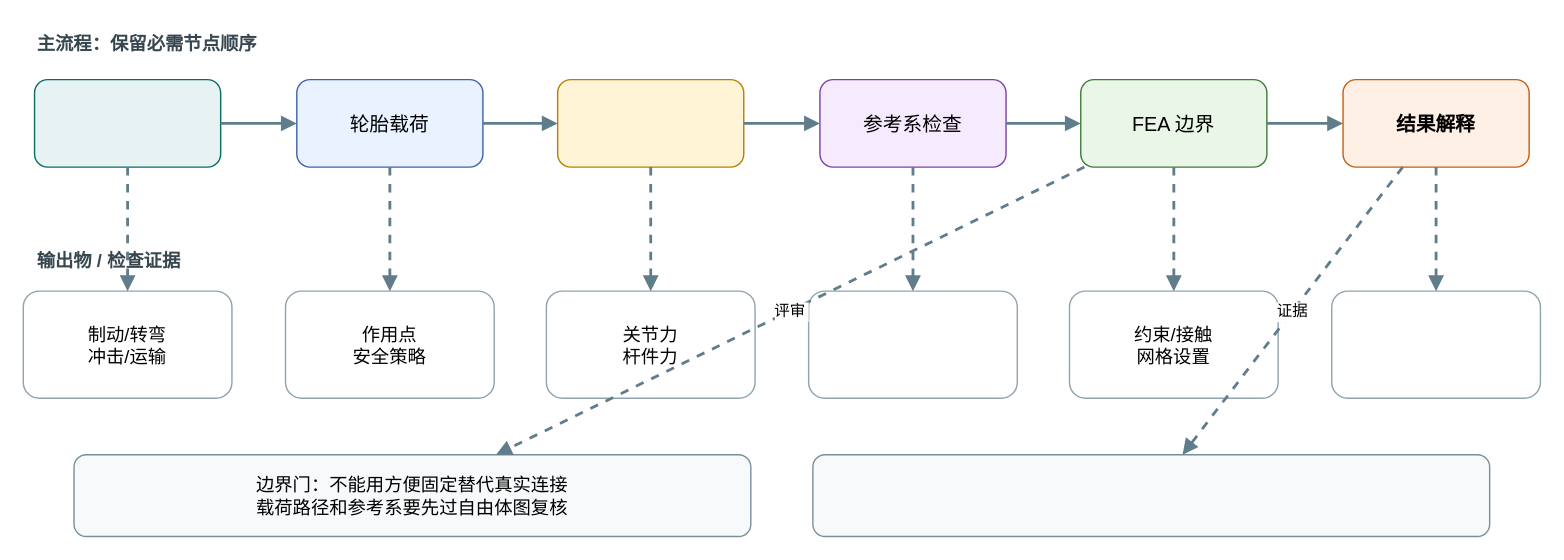
Image size: 1564x560. Some labels were removed from this diagram. The centre of each missing label's shape, as x and y in pixels:
"坐标转换 正方向" goes at point 912,344.
"多体导力" goes at point 650,122.
"奇异点 修改建议" goes at point 1435,344.
"工况定义" goes at point 127,122.
"评审证据：应力、位移、失效指标 连接风险和制造检查共同决定释放结论" goes at point 1150,495.
